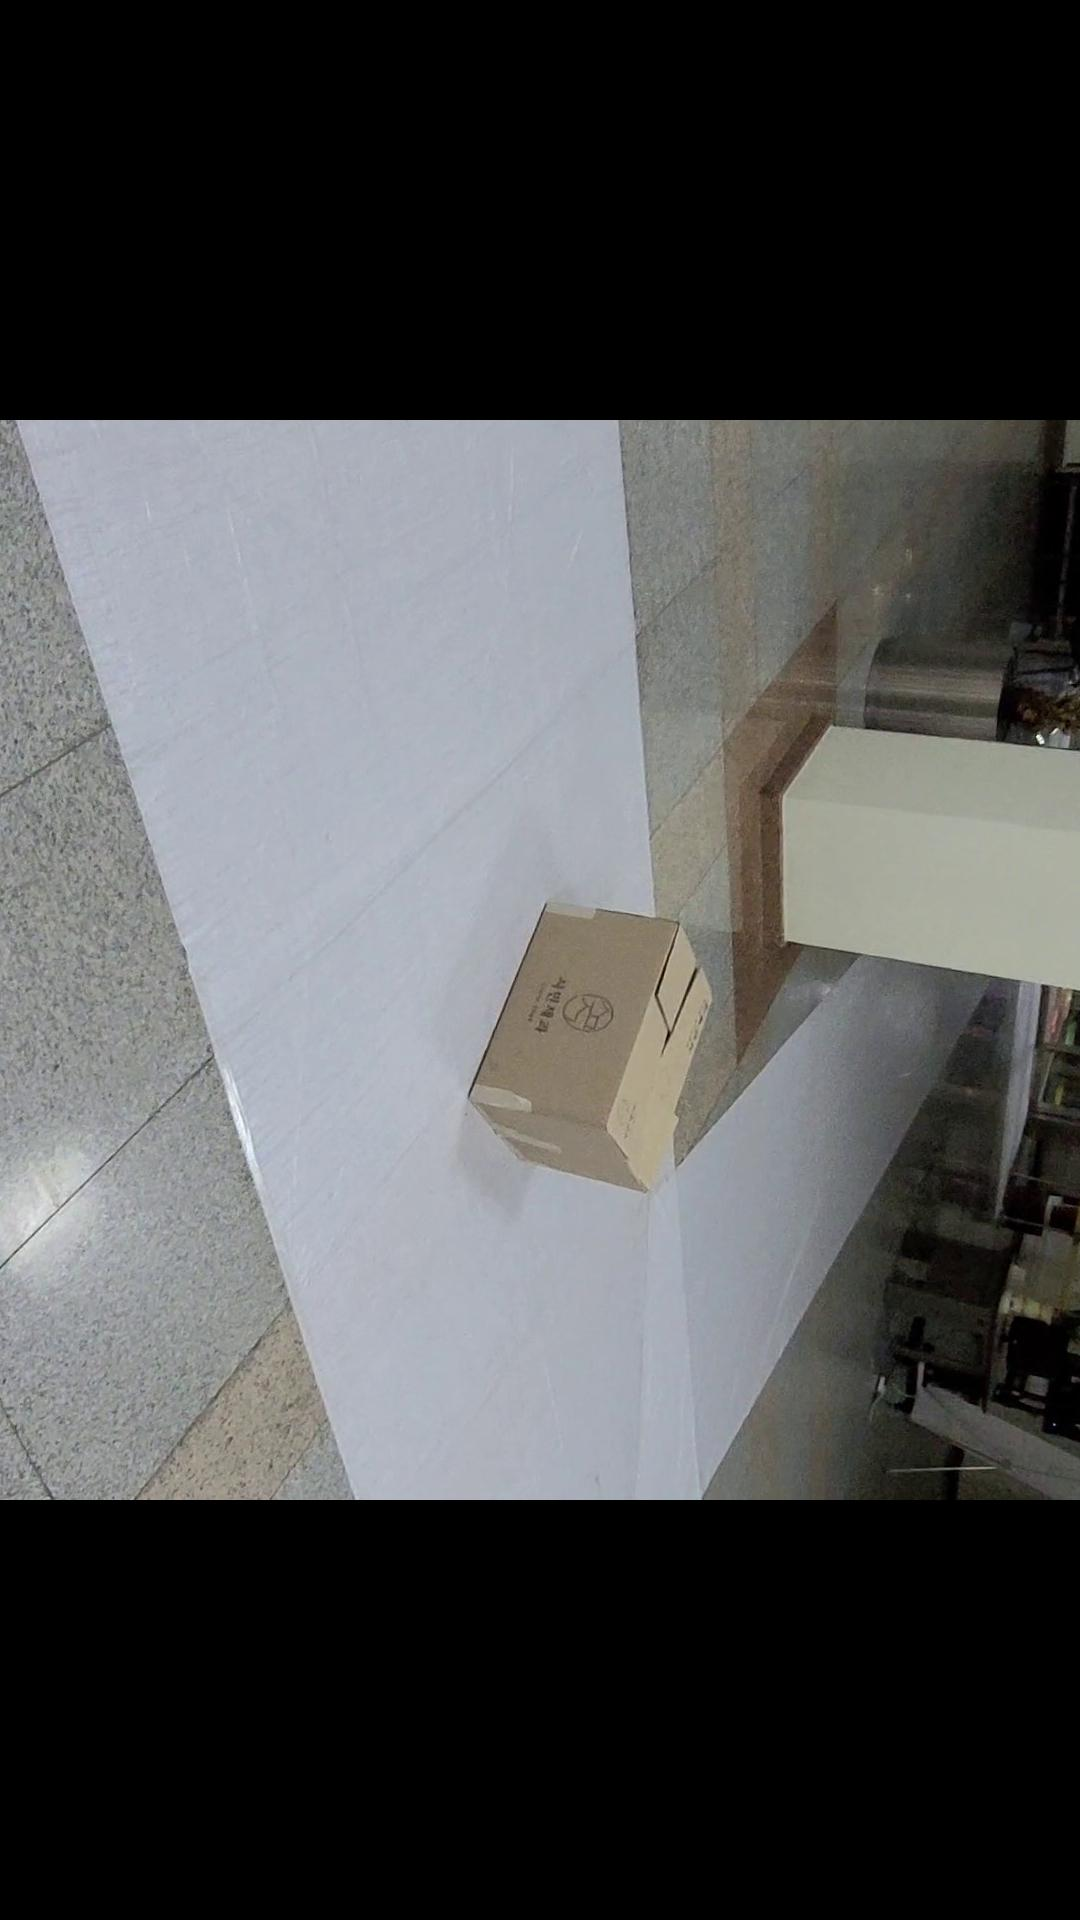Box: (444, 851, 732, 1225)
